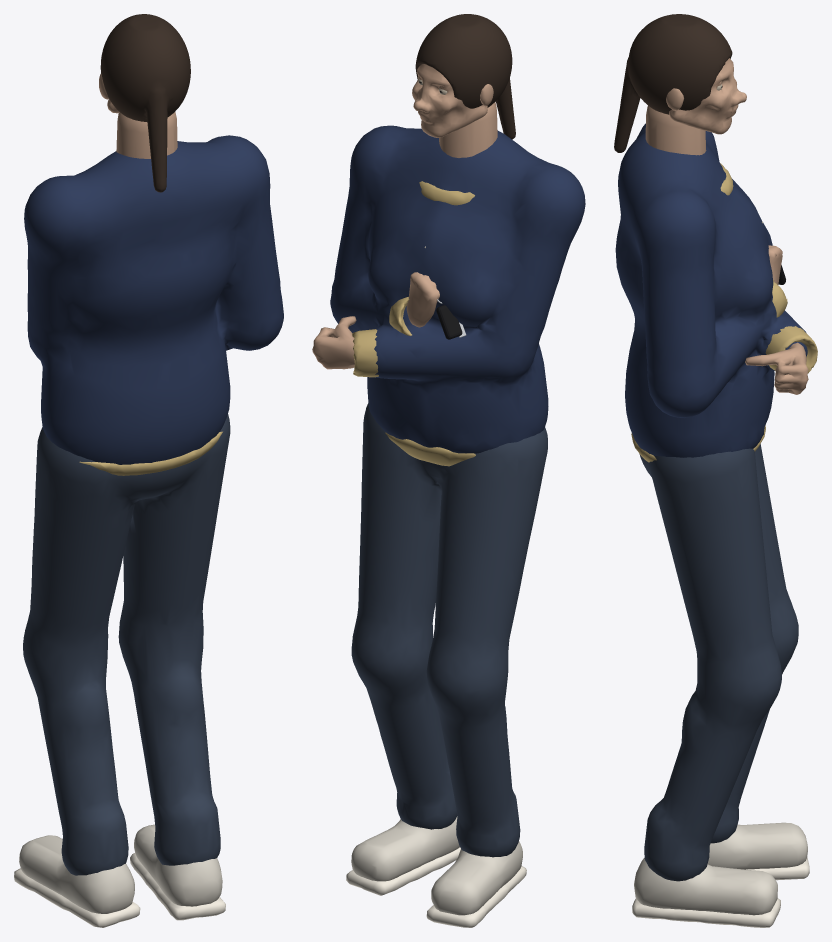
The model's file is driver_rail.glb.
3 renders of one model, left to right at view 1: azimuth 30°, elevation 25°; view 2: azimuth 150°, elevation 25°; view 3: azimuth 270°, elevation 25°, orthographic. The views are drawn at different scales.
Visible parts, largest first — view 1: driver_rail_body, driver_rail_head; view 2: driver_rail_body, driver_rail_head, driver_rail_hands; view 3: driver_rail_body, driver_rail_head, driver_rail_hands.
Part boxes in pixels (x1,y1,x2,y2): driver_rail_body: [14, 112, 283, 927]; driver_rail_head: [99, 14, 190, 192]; driver_rail_body: [330, 102, 585, 927]; driver_rail_head: [412, 14, 515, 139]; driver_rail_hands: [312, 272, 439, 377]; driver_rail_body: [615, 105, 809, 927]; driver_rail_head: [614, 14, 746, 152]; driver_rail_hands: [745, 245, 817, 394].
Size of the model in its own units: 0.4866 by 1.63 by 0.346.
